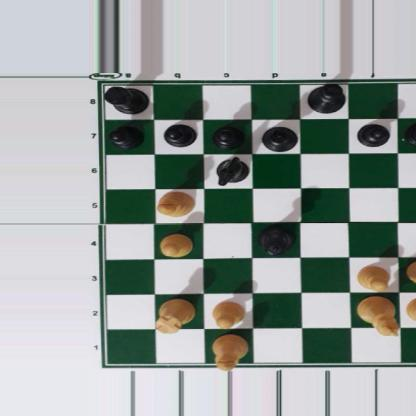black-bishop: (259, 125, 298, 153)
black-king: (305, 83, 346, 114)
black-knight: (214, 155, 250, 186)
black-pawn: (356, 121, 389, 146), (108, 124, 143, 147), (163, 123, 195, 147), (212, 124, 244, 148), (404, 121, 416, 146)
black-queen: (255, 224, 294, 255)
black-rook: (101, 83, 149, 114)
white-bishop: (211, 333, 249, 371), (155, 191, 197, 217)
white-king: (355, 294, 400, 337)
white-knight: (404, 260, 416, 289)
white-pawn: (156, 232, 194, 258), (211, 300, 245, 329), (356, 264, 391, 292), (405, 296, 416, 326)
white-rook: (152, 298, 196, 334)
